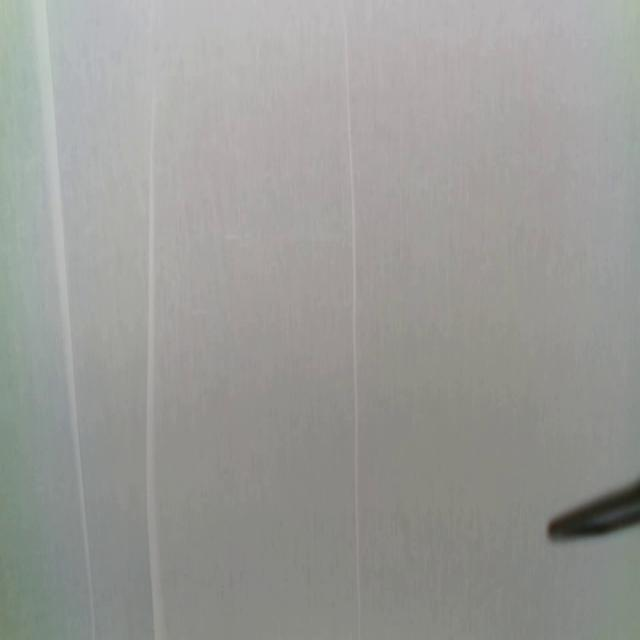crease: (36, 1, 98, 640), (145, 96, 168, 638), (344, 13, 362, 639)
